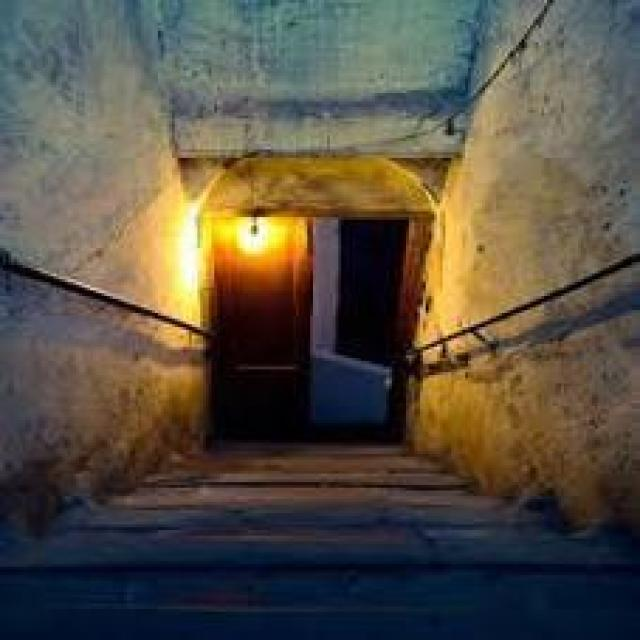downstair: (55, 455, 557, 590)
